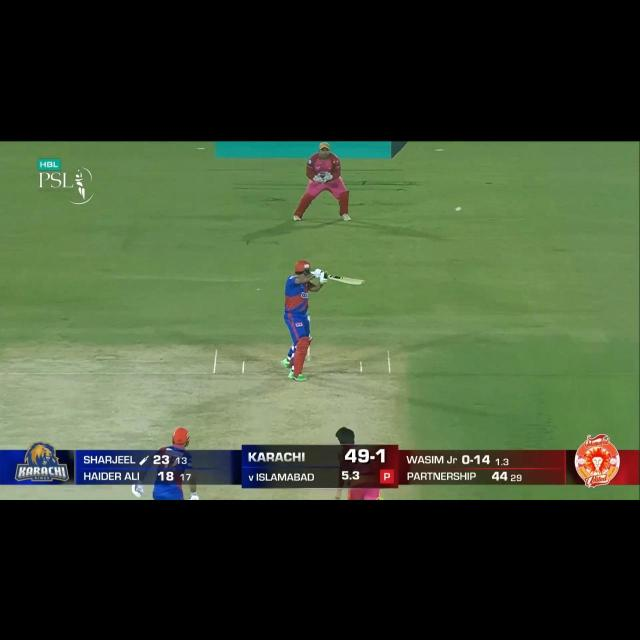bat: (324, 272, 366, 288)
toe: (358, 278, 366, 287)
